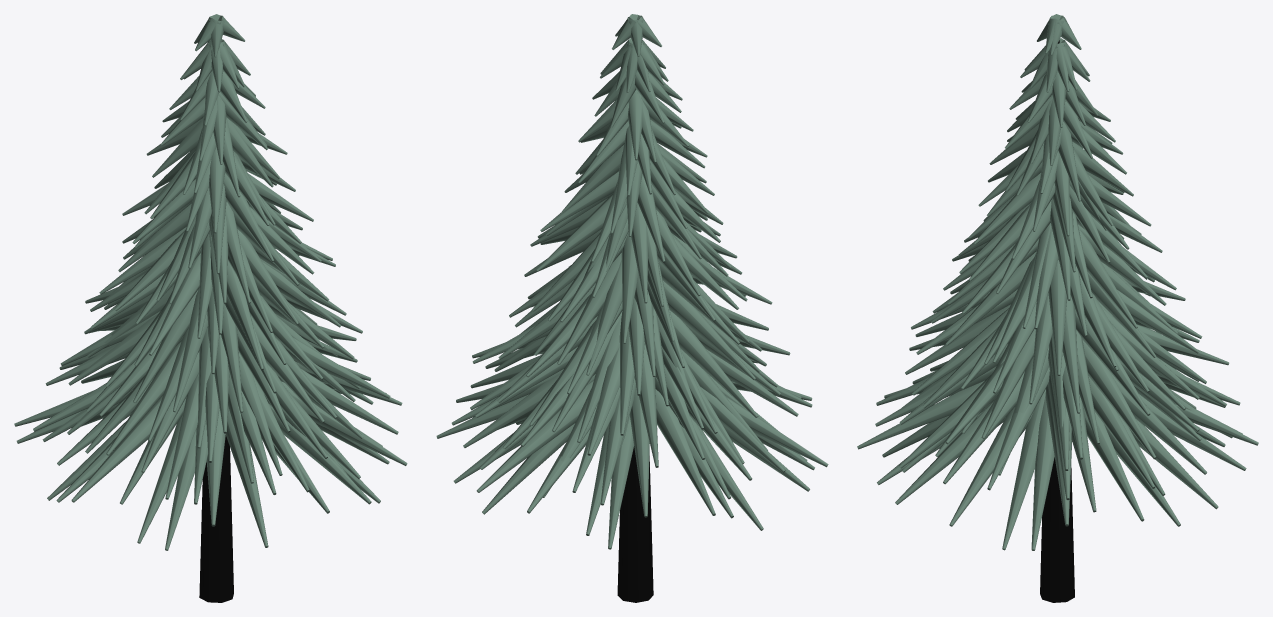
Rendered from pine-tree.gltf.
3 renders of one model, left to right at view 1: azimuth 30°, elevation 25°; view 2: azimuth 150°, elevation 25°; view 3: azimuth 270°, elevation 25°, orthographic.
Bounding box in the file's own units: 21.96 × 35.43 × 22.27.
